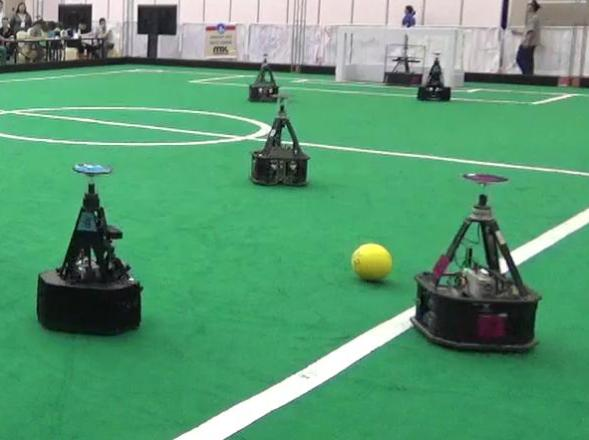robot: (410, 166, 546, 353), (36, 160, 146, 339), (250, 96, 312, 188), (415, 48, 453, 103), (246, 51, 282, 104)
